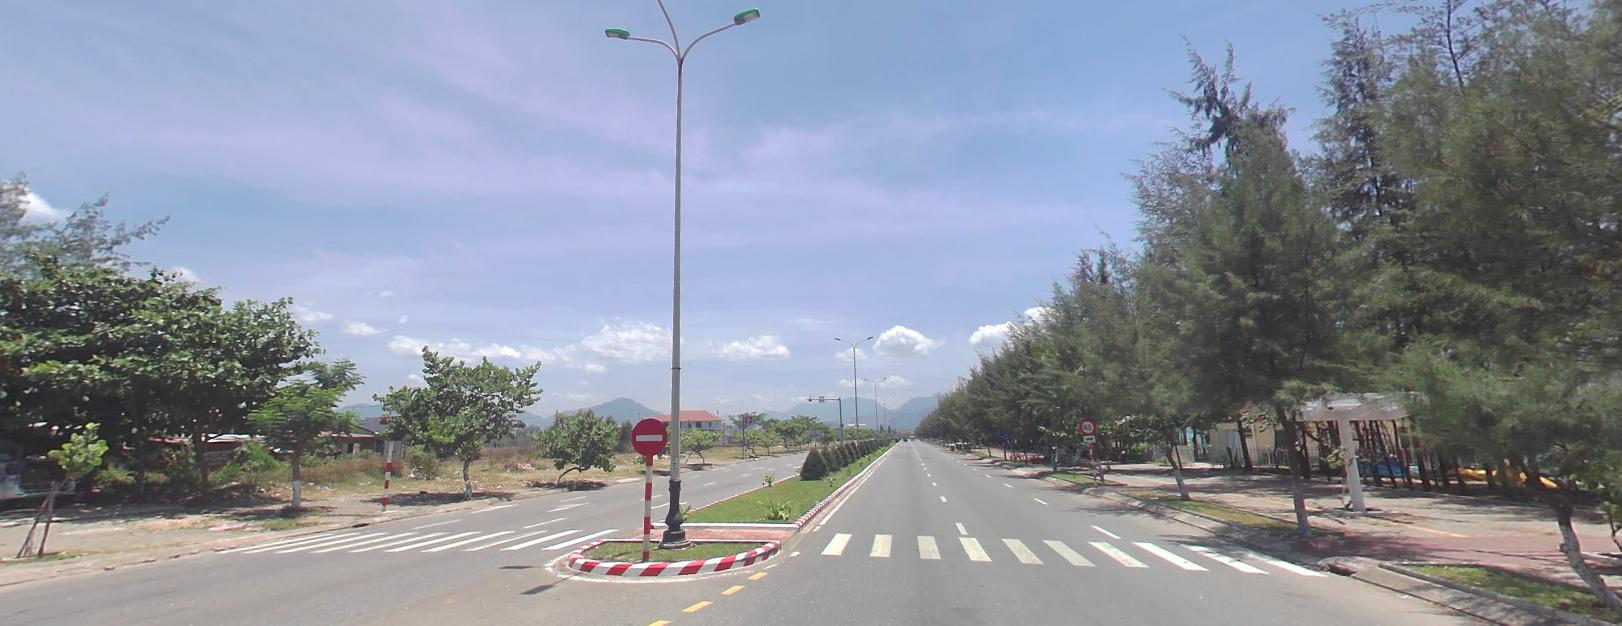Cam nguoc chieu: (630, 417, 667, 454)
Gioi han toc do: (1079, 418, 1094, 433)
